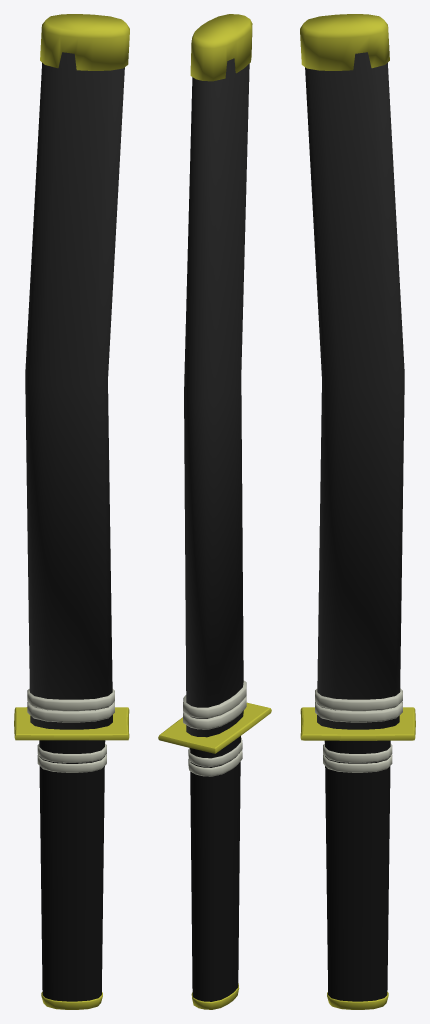
The picture shows the model from 3 angles, left to right: view 1: azimuth 90°, elevation 25°; view 2: azimuth 150°, elevation 25°; view 3: azimuth 270°, elevation 25°; orthographic projection.
Parts seen in each view (by area): view 1: Cube.258; view 2: Cube.258; view 3: Cube.258.
Boxes of the visible parts, <box> form: Cube.258: <box>14,14,129,1009</box>; Cube.258: <box>158,14,271,1009</box>; Cube.258: <box>300,14,415,1009</box>.
Bounding box in the file's own units: 13.09 × 205 × 21.92.
